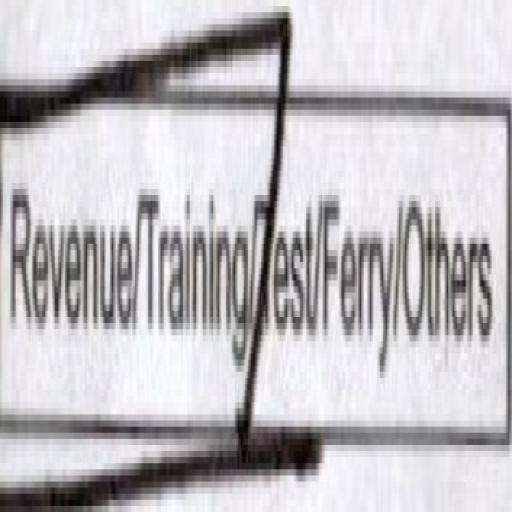check: (0, 8, 135, 512), (140, 6, 255, 512)
